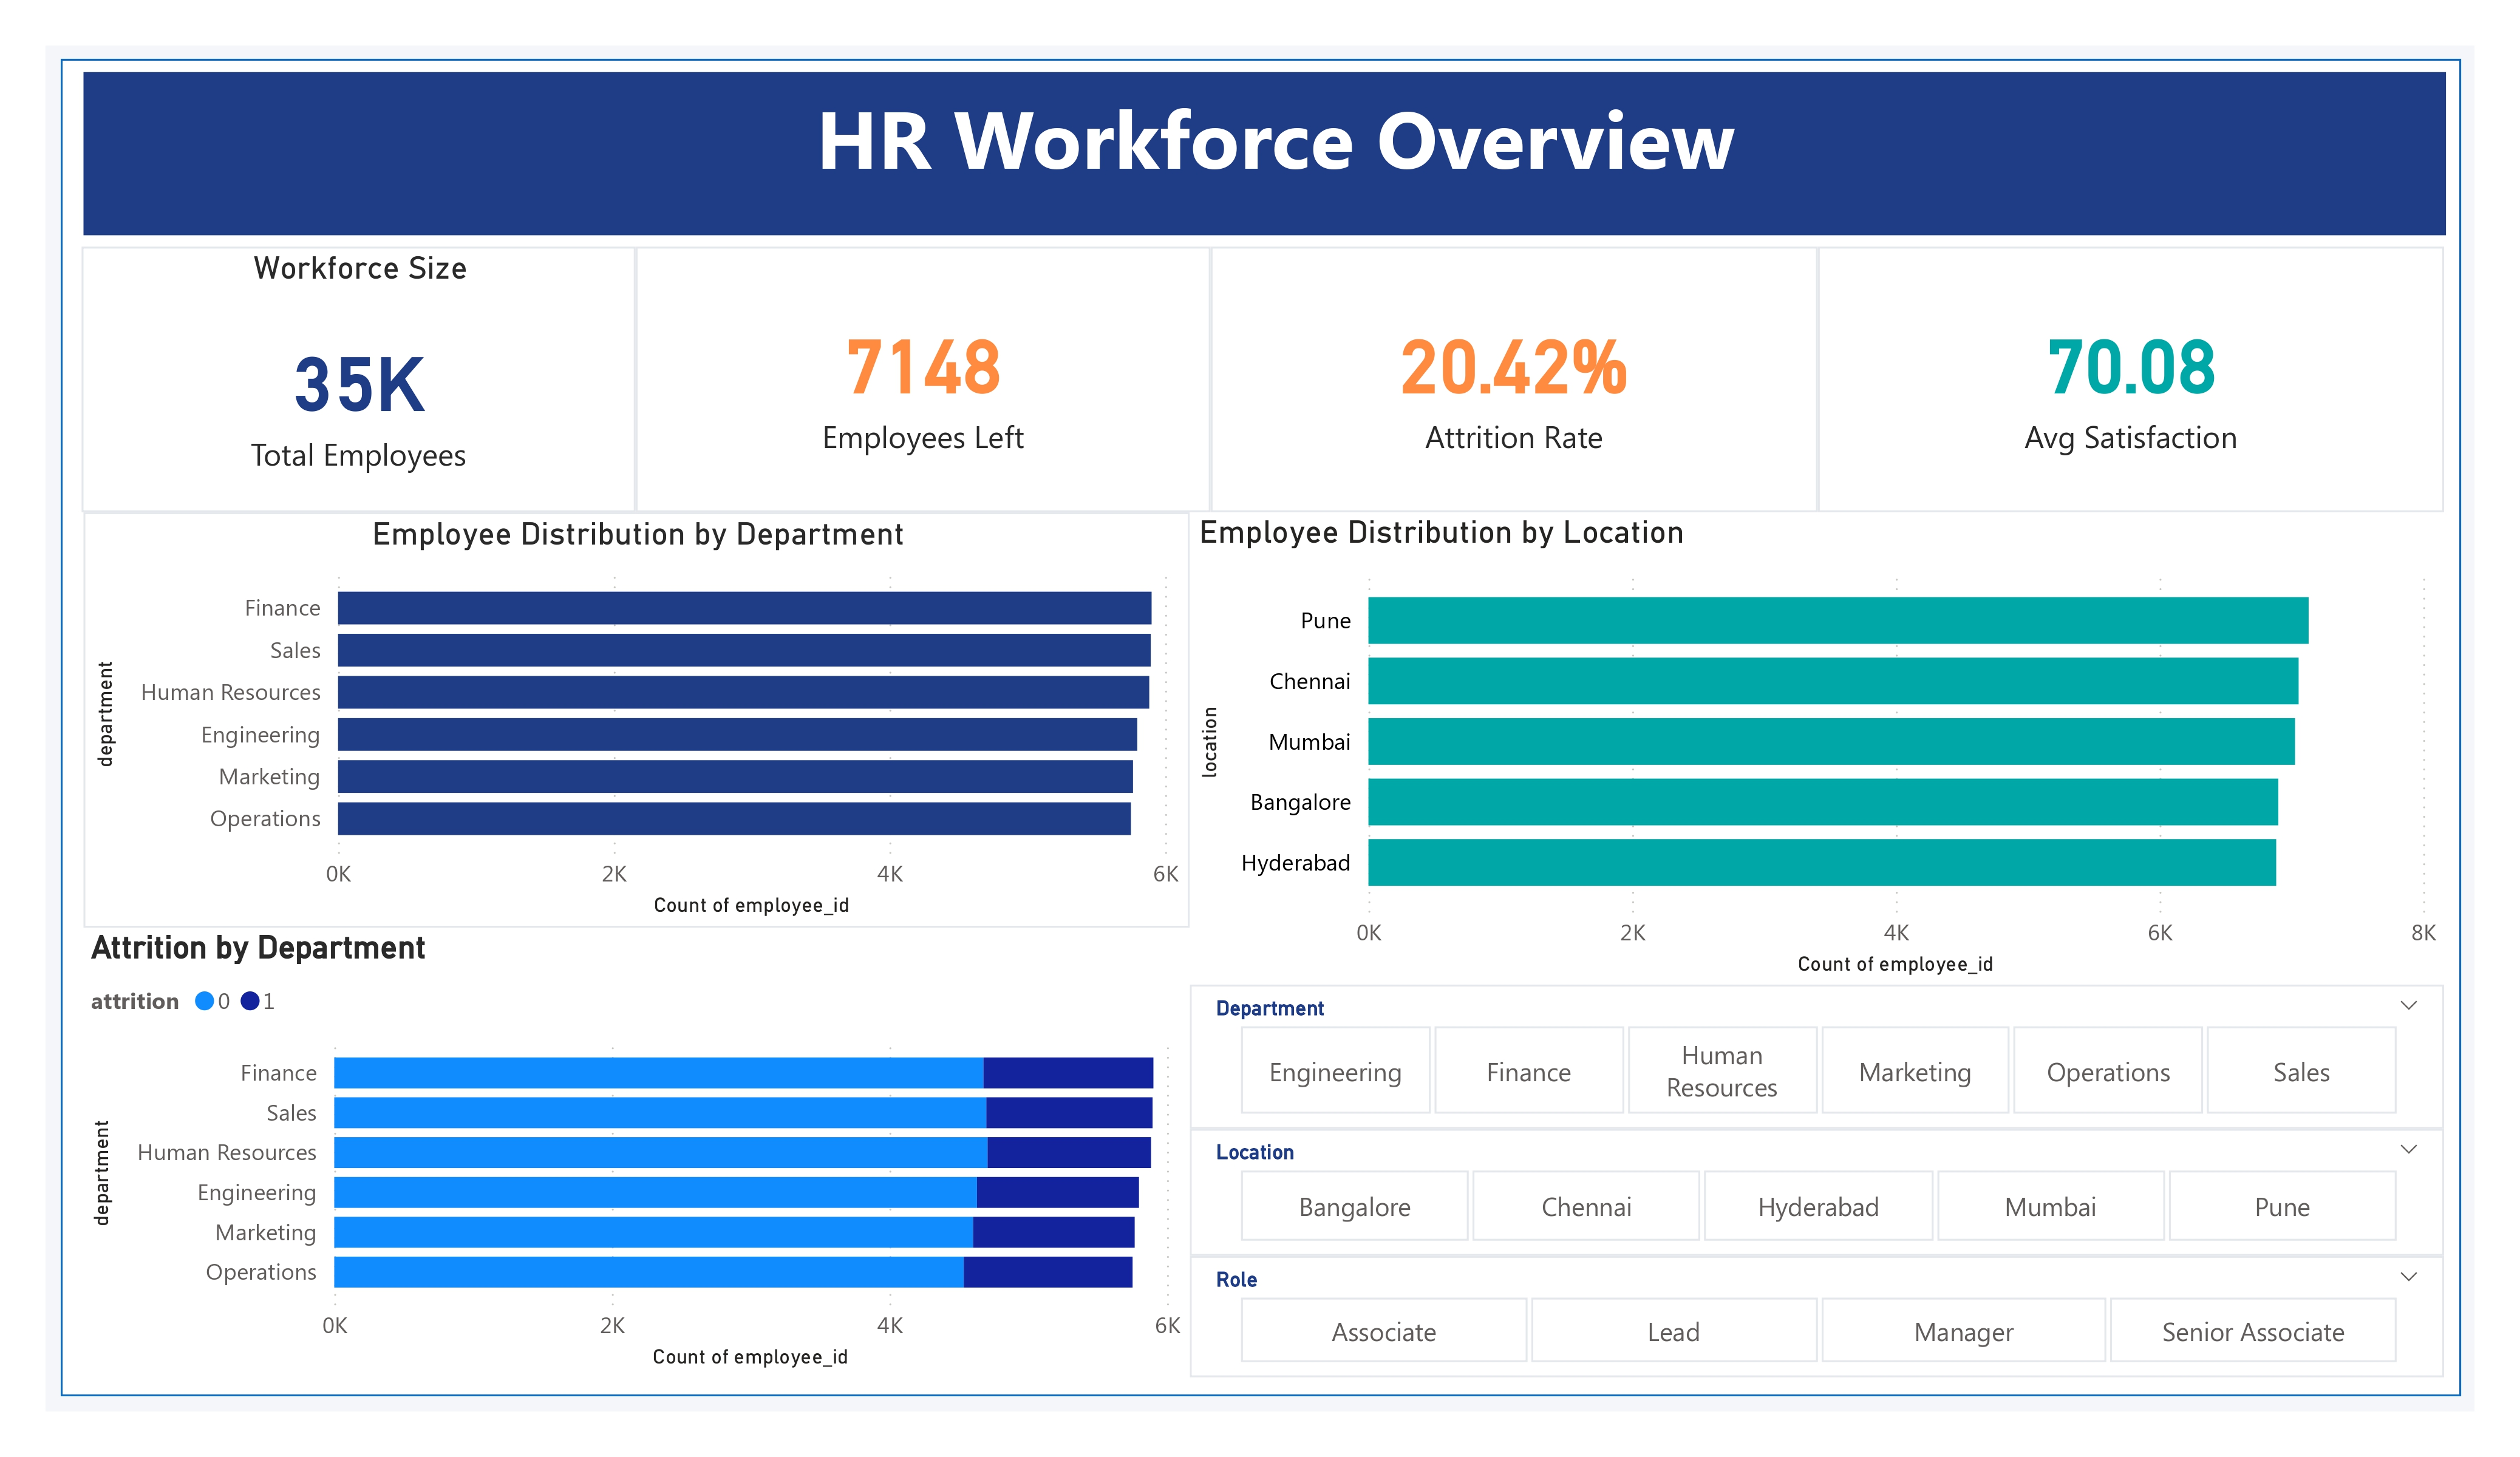

Layout of this report page (visuals, bound fields, positions):
{"tool":"powerbi","page":{"name":"HR Workforce Overview","canvas":[1280,720],"ordinal":0},"visuals":[{"type":"shape","box":[8.5,7.1,1264.5,705],"z":0},{"type":"textbox","box":[19.8,14.1,1244.8,86.2],"z":1000},{"type":"card","title":"Workforce Size","fields":{"Values":["CountNonNull(cleaned_data.employee_id)"]},"box":[19.5,106.1,291.8,139.7],"z":2000},{"type":"card","title":"Workforce Size","fields":{"Values":["Sum(cleaned_data.attrition)"]},"box":[311.2,106.1,302.4,139.7],"z":3000},{"type":"card","title":"Workforce Size","fields":{"Values":["cleaned_data.Attrition Rate"]},"box":[613.6,106.1,320.1,139.7],"z":4000},{"type":"card","title":"Workforce Size","fields":{"Values":["Avg(cleaned_data.satisfaction_score)"]},"box":[933.7,106.1,330.7,139.7],"z":5000},{"type":"clusteredBarChart","title":"Employee Distribution by Department","fields":{"Category":["cleaned_data.department"],"Y":["CountNonNull(cleaned_data.employee_id)"]},"box":[19.8,245.8,583.5,219],"z":6000},{"type":"clusteredBarChart","title":"Employee Distribution by Location","fields":{"Category":["cleaned_data.location"],"Y":["CountNonNull(cleaned_data.employee_id)"]},"box":[603.3,245.8,661.2,248.7],"z":7000},{"type":"slicer","fields":{"Values":["cleaned_data.department"]},"box":[603,495.1,661.3,76],"z":8000},{"type":"slicer","fields":{"Values":["cleaned_data.location"]},"box":[603,571.2,661.3,67.2],"z":9000},{"type":"slicer","fields":{"Values":["cleaned_data.role"]},"box":[603,638.4,661.3,63.7],"z":10000},{"type":"barChart","title":"Attrition by Department","fields":{"Category":["cleaned_data.department"],"Series":["cleaned_data.attrition"],"Y":["CountNonNull(cleaned_data.employee_id)"]},"box":[19.5,465.1,583.5,237],"z":11000}]}

Visuals, with their boxes on the page's 1280x720 design canvas (x1, y1, x2, y2). These are canvas units, not pixel positions in the 2520x1457 screenshot, which may show the page scaled, cropped or inside an application window:
shape: [8,7,1273,712]
textbox: [20,14,1265,100]
"Workforce Size" card: [20,106,311,246]
"Workforce Size" card: [311,106,614,246]
"Workforce Size" card: [614,106,934,246]
"Workforce Size" card: [934,106,1264,246]
"Employee Distribution by Department" clusteredBarChart: [20,246,603,465]
"Employee Distribution by Location" clusteredBarChart: [603,246,1264,494]
slicer - cleaned_data.department: [603,495,1264,571]
slicer - cleaned_data.location: [603,571,1264,638]
slicer - cleaned_data.role: [603,638,1264,702]
"Attrition by Department" barChart: [20,465,603,702]
